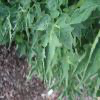Tomato leaf mosaic virus: (41, 30, 60, 82), (68, 1, 98, 25), (57, 22, 76, 56), (28, 13, 51, 32), (50, 10, 60, 17)
